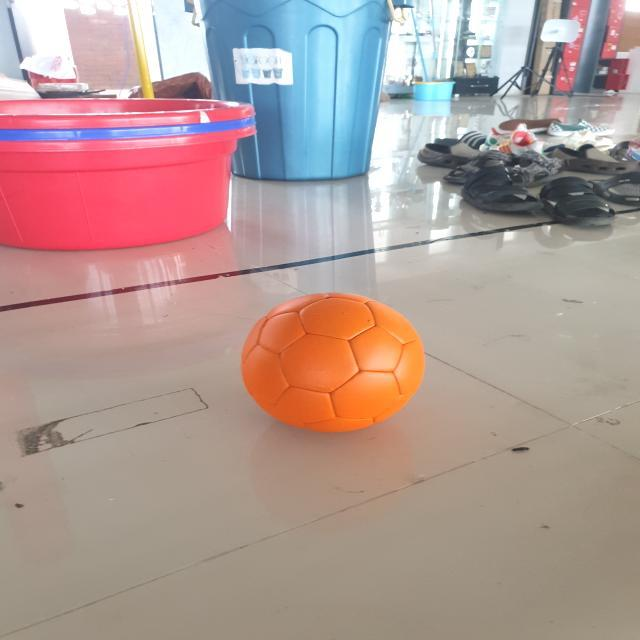bola: (226, 282, 442, 444)
